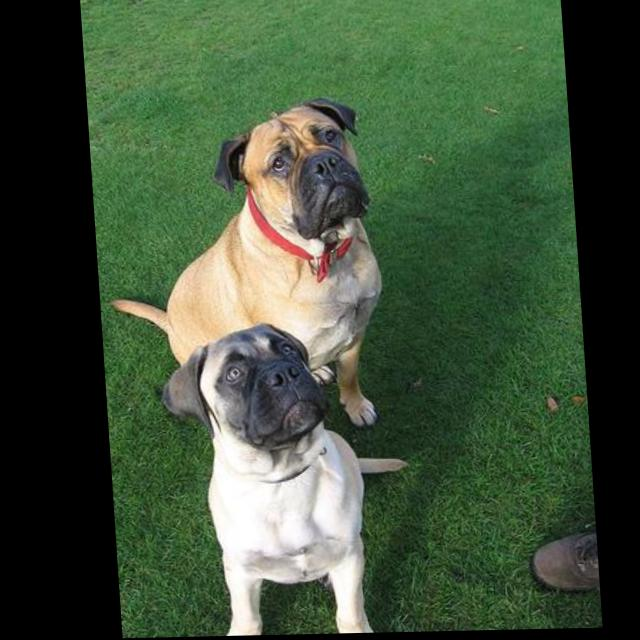bullmastiff: (93, 98, 387, 436), (151, 322, 412, 639)
